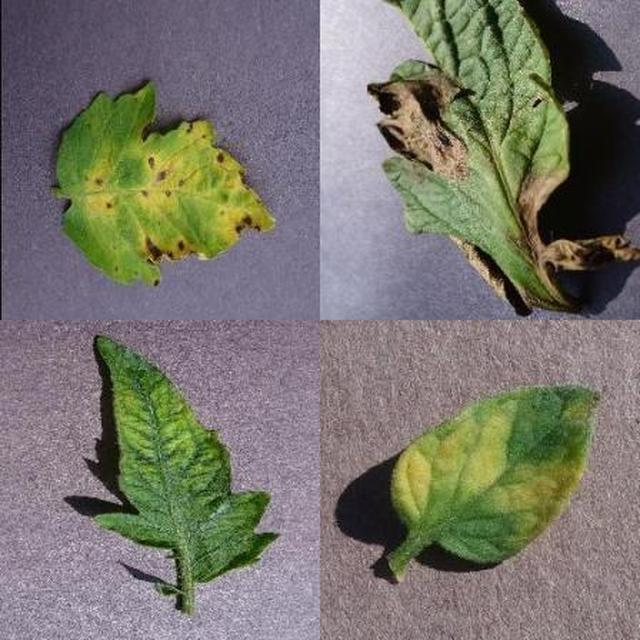Septoria Leaf: (238, 227, 640, 640)
